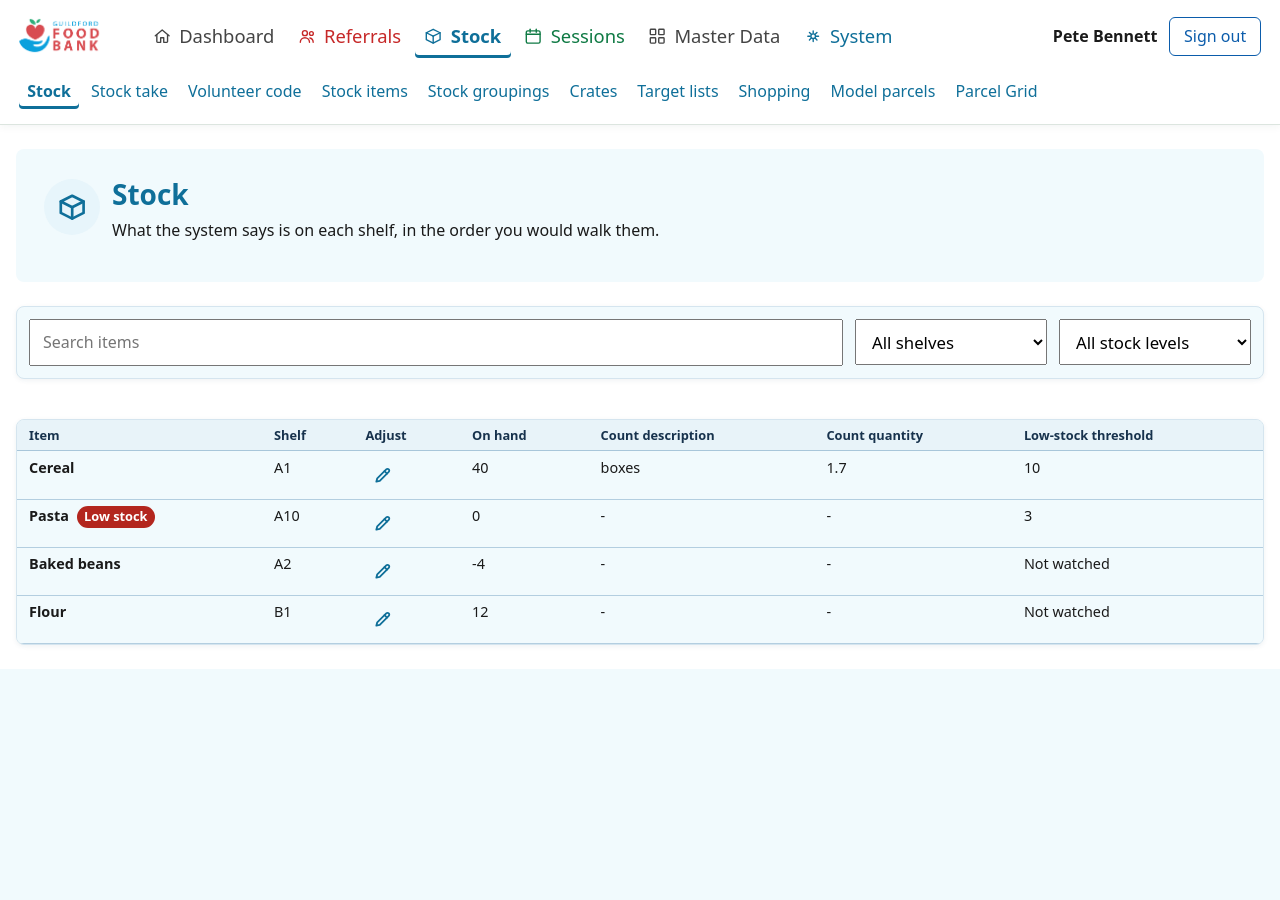
stock levels › filters by the first shelf character without changing the server order
The width and height of the screenshot is (1280, 900).
Select "Shelf B" in the dropdown named "Shelf filter" at (951, 342), box [855, 319, 1047, 366]
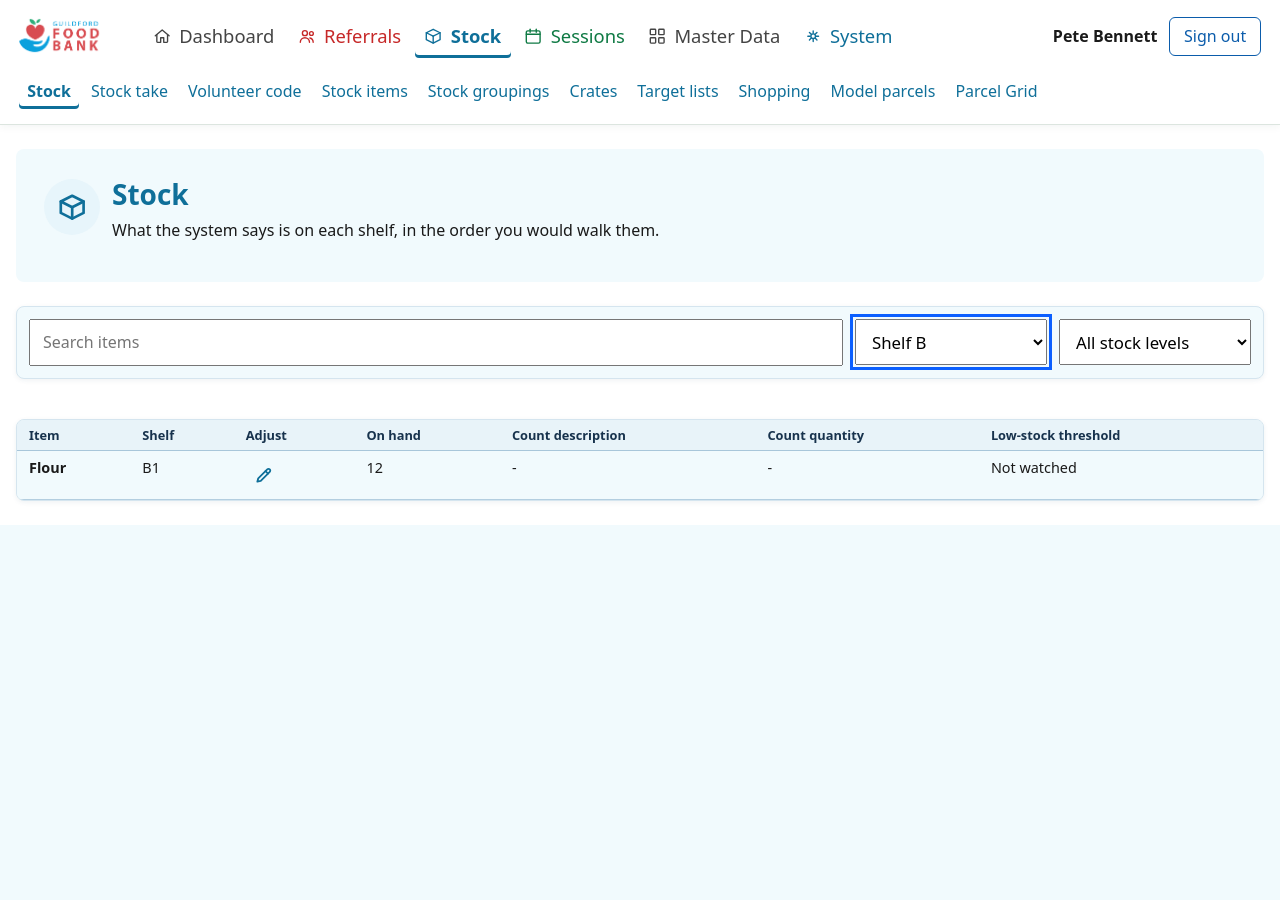
Expected: the row "Flour B1 12 - - Not watched" is shown, [17, 451, 1263, 499]
Expected: the column heading "Cereal" is gone
Expected: the column heading "Baked beans" is gone
